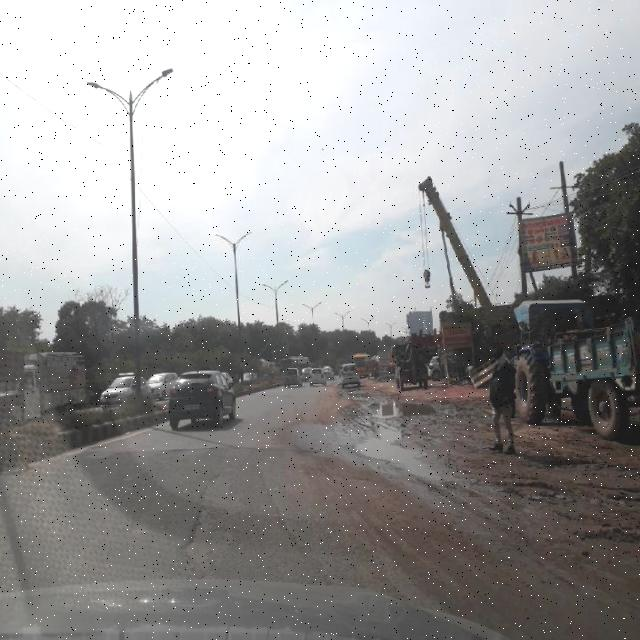D00: (258, 451, 332, 583)
D40: (176, 461, 246, 569)
